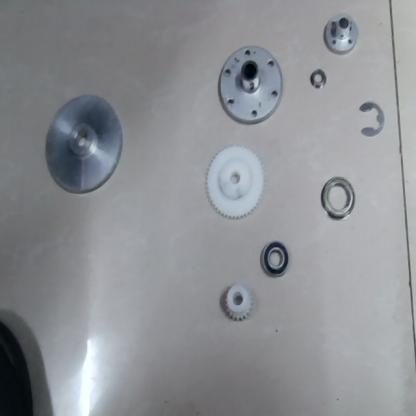FOD: (40, 93, 125, 198), (214, 42, 284, 131), (200, 145, 265, 222), (318, 171, 356, 224), (324, 10, 358, 58), (255, 239, 291, 278), (356, 96, 386, 140), (222, 281, 251, 323), (309, 68, 328, 90)
